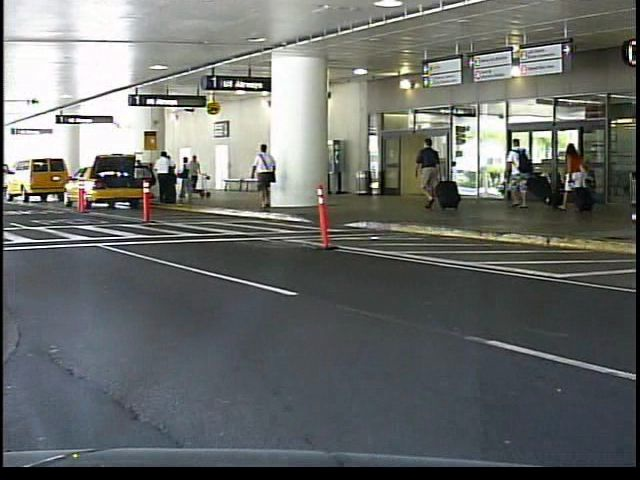person: (503, 133, 540, 213), (561, 133, 593, 220), (412, 134, 446, 210), (250, 142, 282, 215)
